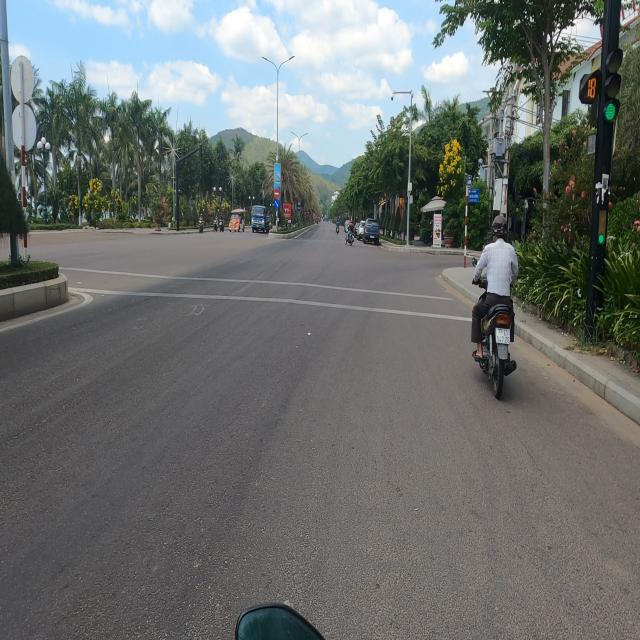walk-crossing: (62, 262, 474, 322)
